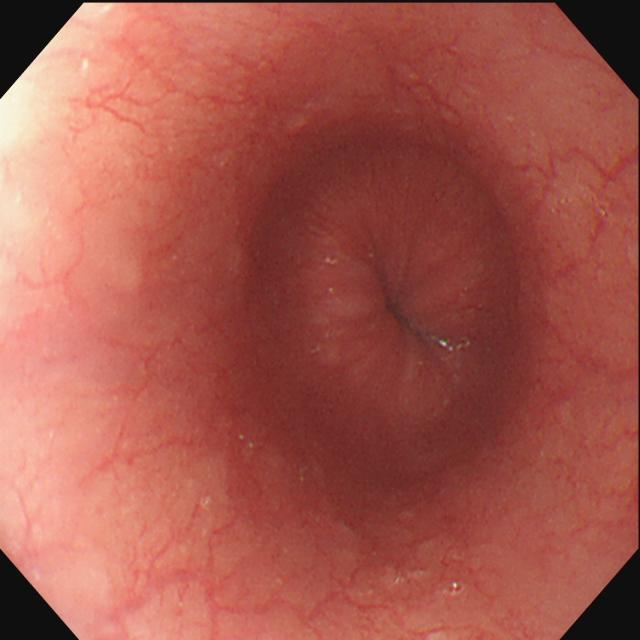I: (245, 125, 526, 491)
